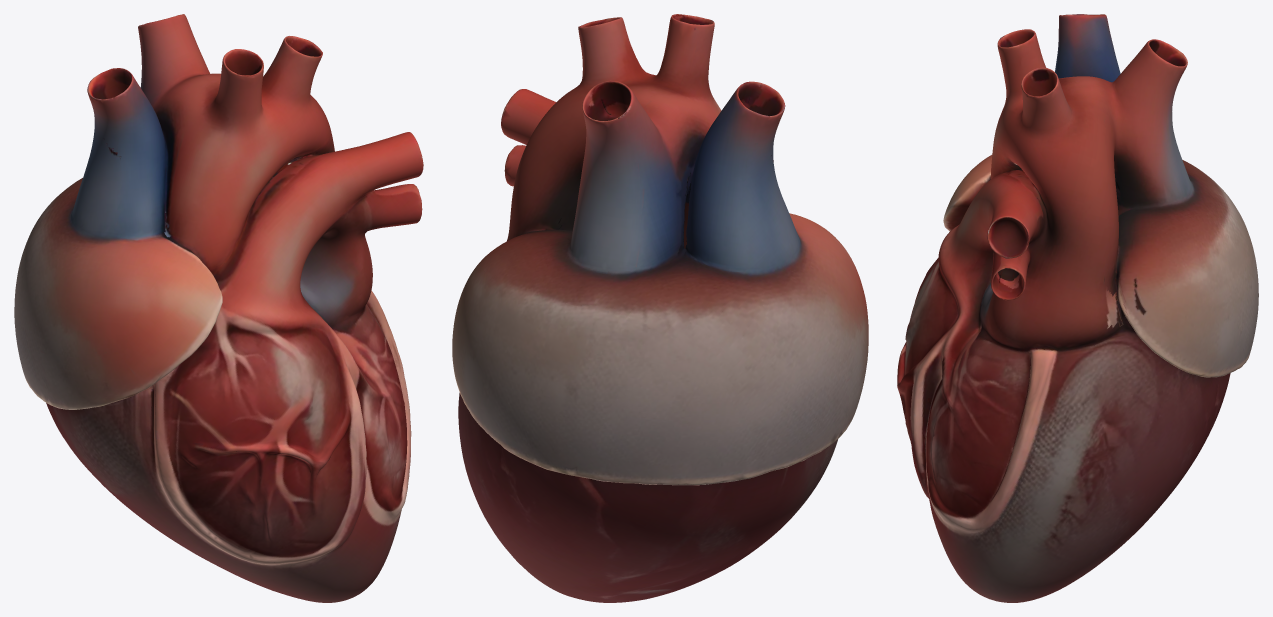
The model's file is vet_v2_organ_dog_heart.glb.
3 views of the same model, side by side, from view 1: azimuth 30°, elevation 25°; view 2: azimuth 150°, elevation 25°; view 3: azimuth 270°, elevation 25° (orthographic). The views are drawn at different scales.
Visible parts, largest first — view 1: model; view 2: model; view 3: model.
Part boxes in pixels (x1,y1,x2,y2): model: (14,14,423,602); model: (452,14,868,602); model: (897,14,1258,602).
Size of the model in its own units: 1.23 by 1.9 by 1.18.
Materials: 1 (1 with a texture image).
